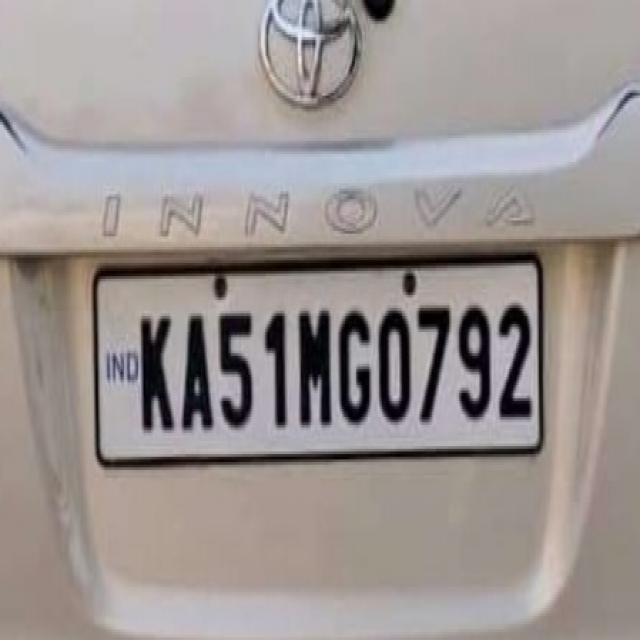0: (374, 306, 414, 434)
1: (260, 302, 292, 438)
5: (215, 304, 258, 436)
7: (415, 298, 452, 436)
9: (457, 290, 496, 426)
A: (178, 313, 218, 438)
G: (334, 307, 376, 428)
K: (135, 300, 179, 434)
M: (296, 301, 334, 431)
